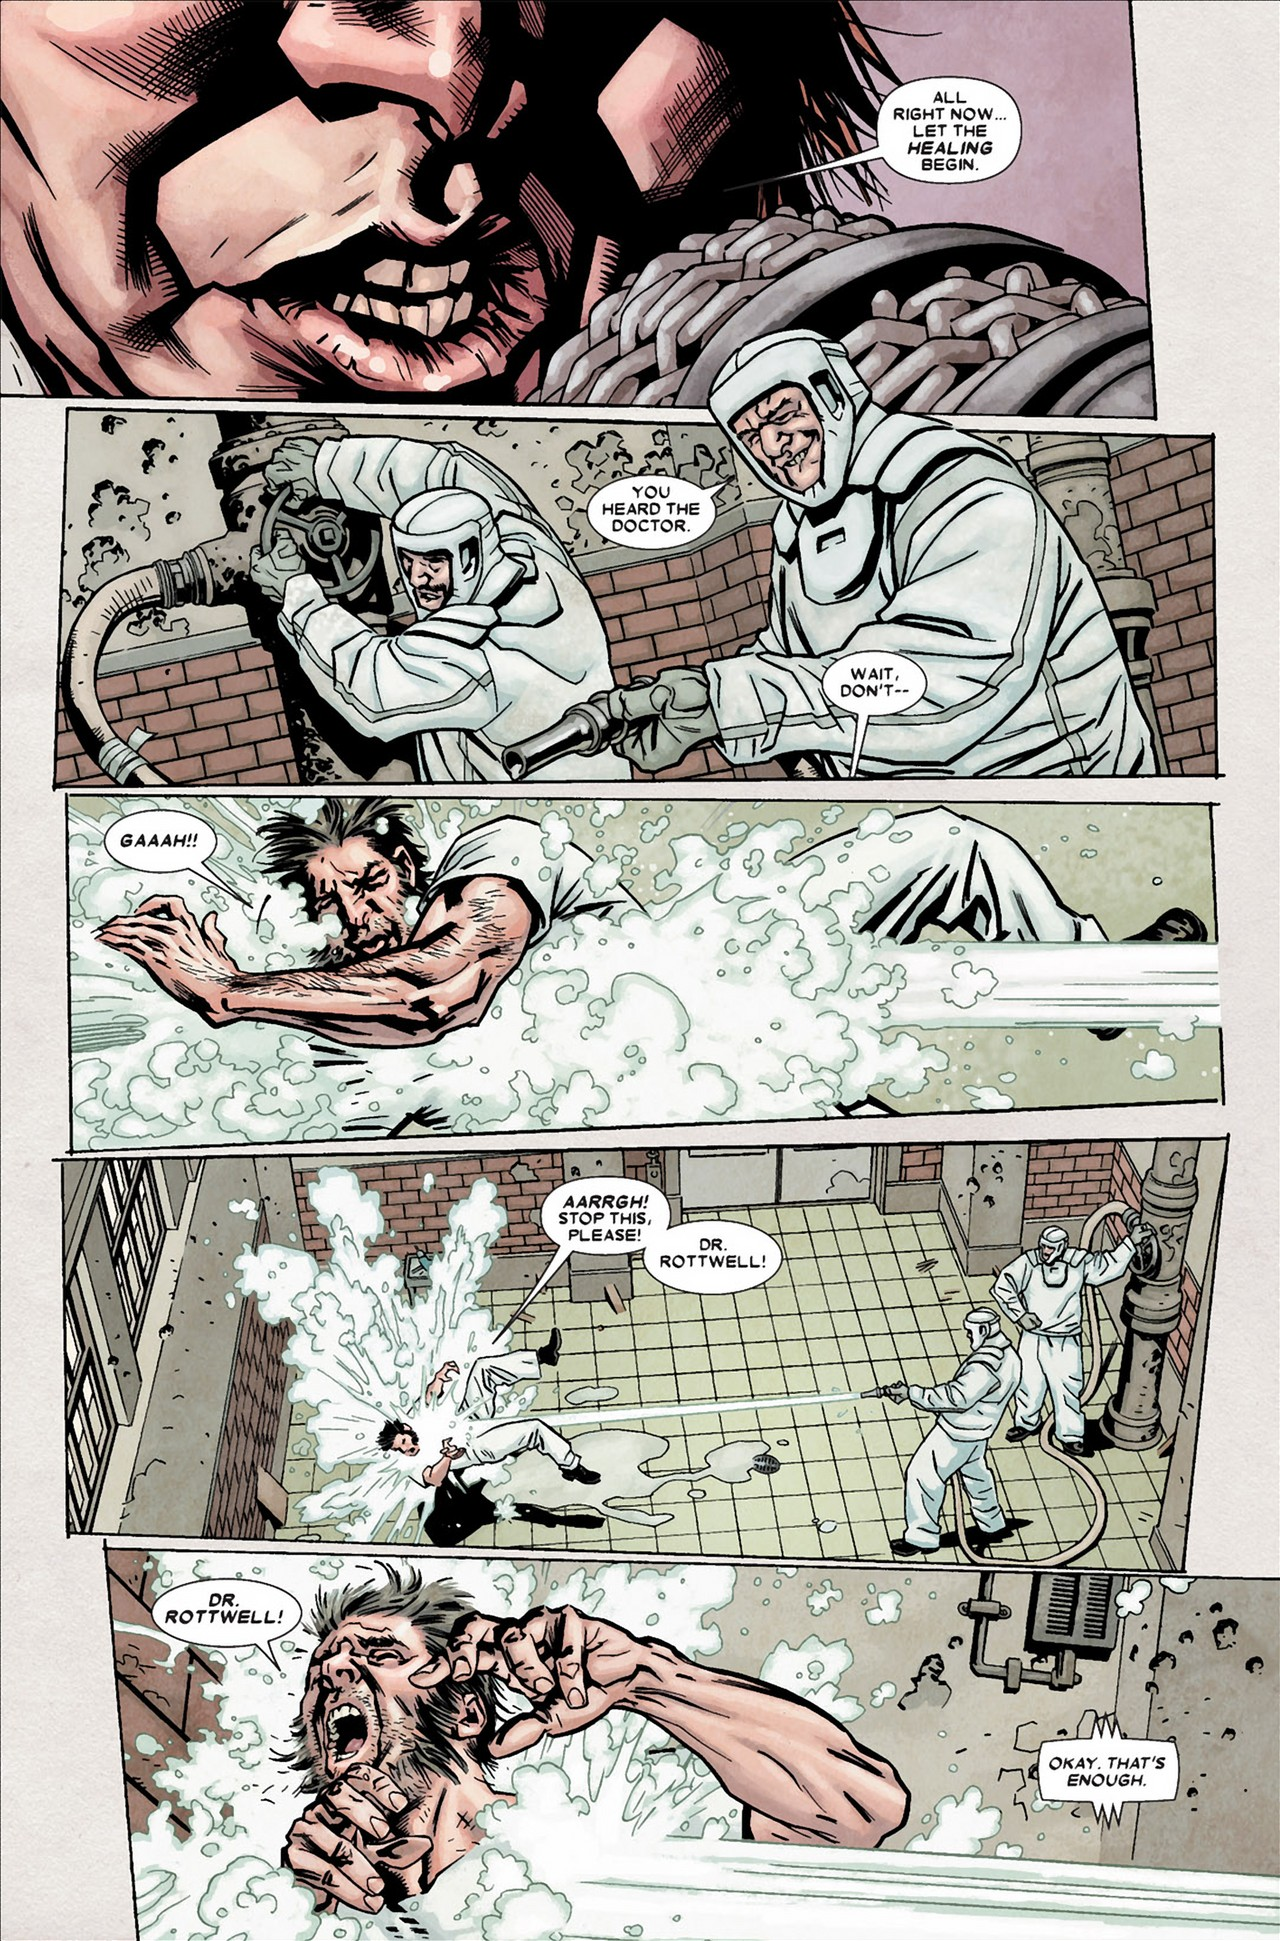Baloon: (541, 1175, 786, 1293), (861, 76, 1030, 199), (1041, 1740, 1180, 1822), (586, 471, 734, 546), (824, 653, 930, 746), (100, 803, 227, 876), (150, 1578, 300, 1640)
Vignetta: (53, 326, 1214, 787), (61, 1137, 1227, 1575), (3, 1, 1156, 417), (97, 1545, 1279, 1935), (69, 787, 1211, 1158)
